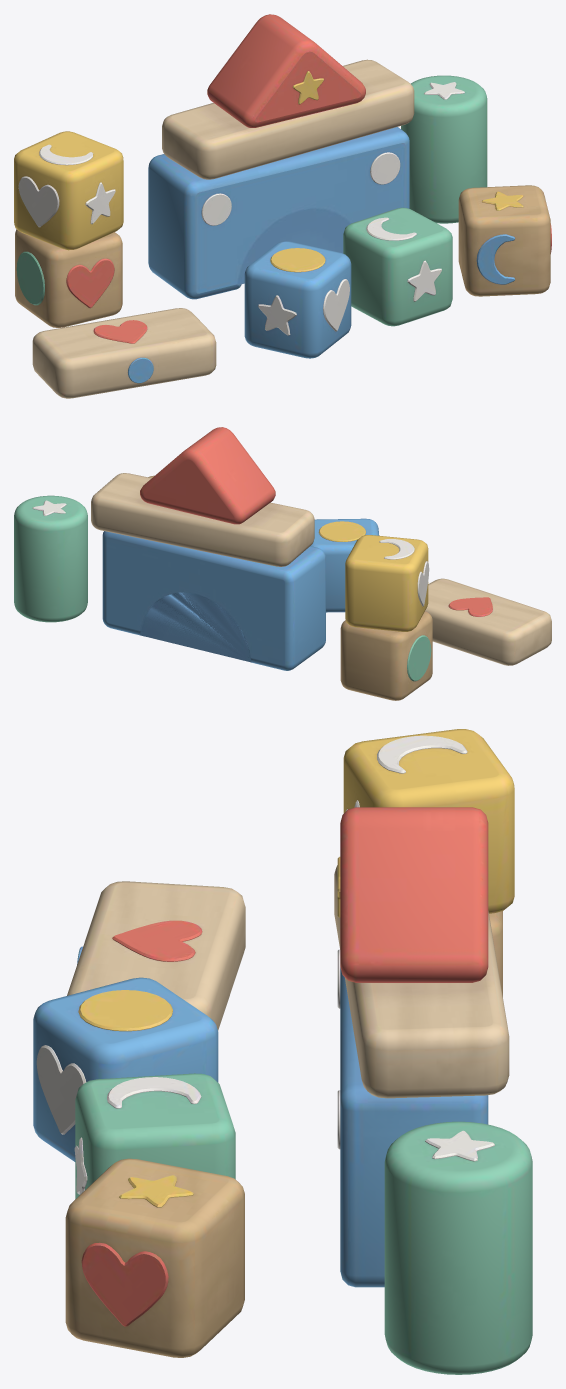
The model's file is bloques_madera.glb.
3 views of the same model, one above another, from view 1: azimuth 30°, elevation 25°; view 2: azimuth 150°, elevation 25°; view 3: azimuth 270°, elevation 25° (orthographic). The views are drawn at different scales.
Parts seen in each view (by area): view 1: toy-blocks_body; view 2: toy-blocks_body; view 3: toy-blocks_body.
Part boxes in pixels (x1,y1,x2,y2): toy-blocks_body: [14, 14, 551, 398]; toy-blocks_body: [14, 427, 551, 700]; toy-blocks_body: [33, 729, 532, 1374].
Size of the model in its own units: 0.2795 by 0.1181 by 0.135.
Materials: 1 (1 with a texture image).
